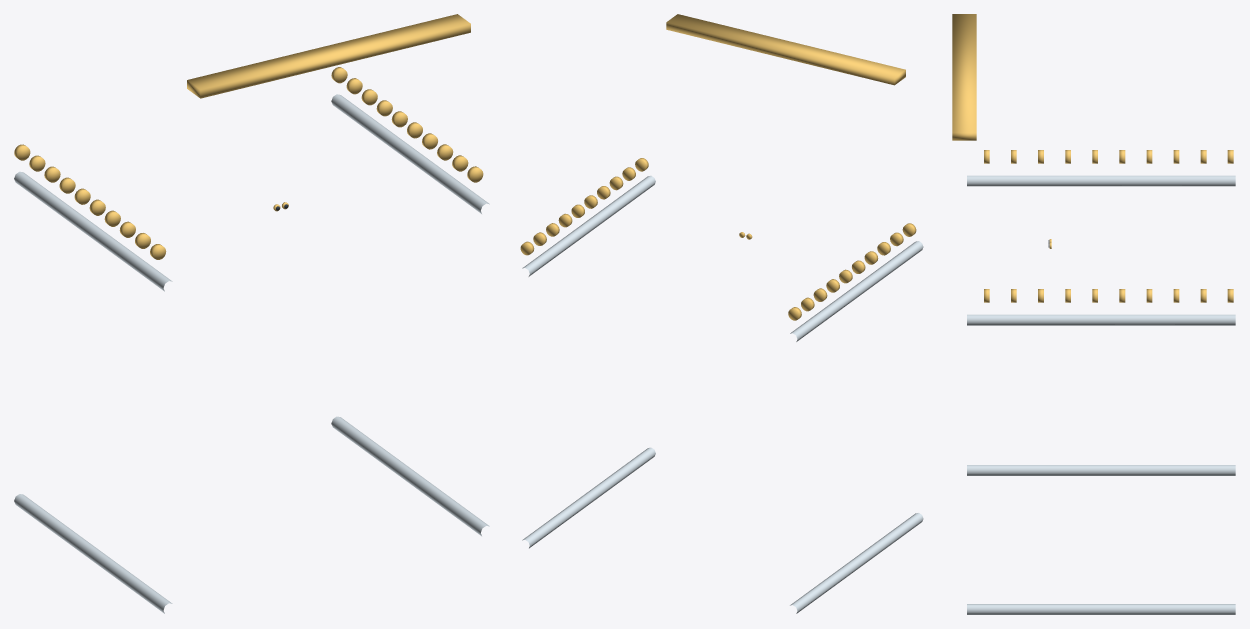
Rendered from 56_L89_ShieldCassetteRailArray.glb.
3 renders of one model, left to right at view 1: azimuth 30°, elevation 25°; view 2: azimuth 150°, elevation 25°; view 3: azimuth 270°, elevation 25°, orthographic. The views are drawn at different scales.
Visible parts, largest first — view 1: L87_ShieldCassetteRailArray_Part_0000, L87_ShieldCassetteRailArray_Part_0003, L87_ShieldCassetteRailArray_Part_0001; view 2: L87_ShieldCassetteRailArray_Part_0000, L87_ShieldCassetteRailArray_Part_0003, L87_ShieldCassetteRailArray_Part_0001; view 3: L87_ShieldCassetteRailArray_Part_0000, L87_ShieldCassetteRailArray_Part_0003, L87_ShieldCassetteRailArray_Part_0001.
Boxes of the visible parts, x1=… form: L87_ShieldCassetteRailArray_Part_0000: x1=14, y1=94, x2=489, y2=613; L87_ShieldCassetteRailArray_Part_0003: x1=187, y1=14, x2=470, y2=98; L87_ShieldCassetteRailArray_Part_0001: x1=14, y1=67, x2=468, y2=259; L87_ShieldCassetteRailArray_Part_0000: x1=522, y1=175, x2=923, y2=613; L87_ShieldCassetteRailArray_Part_0003: x1=666, y1=14, x2=905, y2=85; L87_ShieldCassetteRailArray_Part_0001: x1=520, y1=167, x2=916, y2=320; L87_ShieldCassetteRailArray_Part_0000: x1=967, y1=175, x2=1235, y2=614; L87_ShieldCassetteRailArray_Part_0003: x1=952, y1=14, x2=976, y2=140; L87_ShieldCassetteRailArray_Part_0001: x1=984, y1=150, x2=1233, y2=302.
Size of the model in its own units: 7.08 by 10.76 by 5.85.
